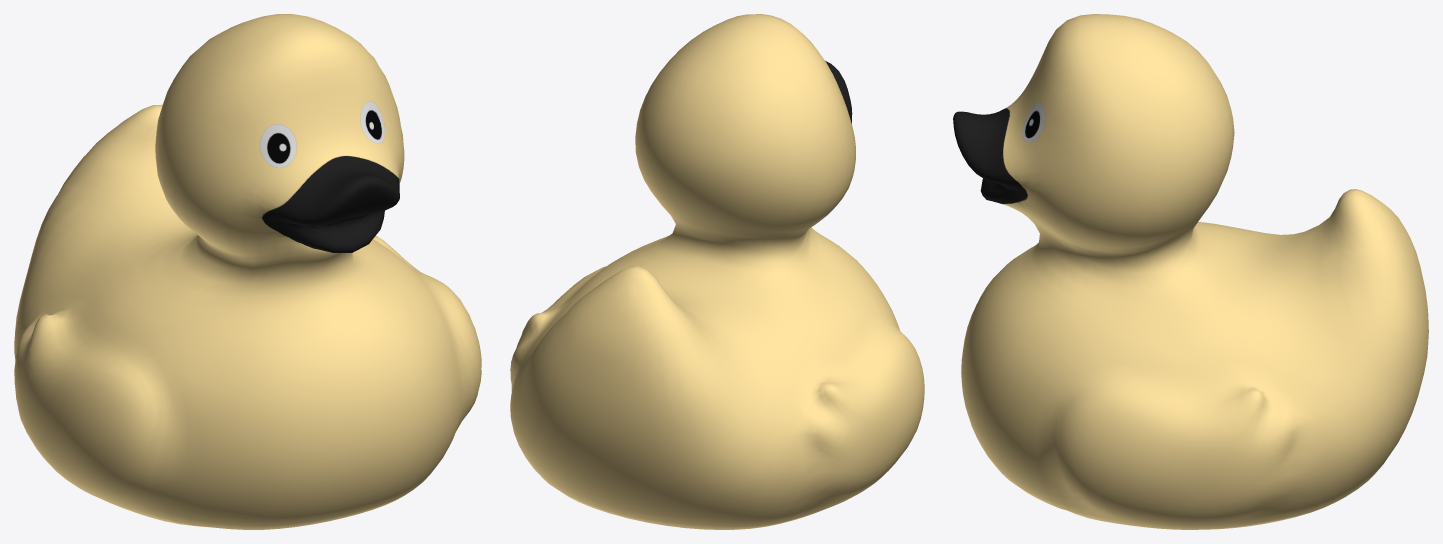
The model's file is motherduck4.glb.
The picture shows the model from 3 angles, left to right: view 1: azimuth 30°, elevation 25°; view 2: azimuth 150°, elevation 25°; view 3: azimuth 270°, elevation 25°; orthographic projection. The views are drawn at different scales.
Parts seen in each view (by area): view 1: Duck_01_LP; view 2: Duck_01_LP; view 3: Duck_01_LP.
Part boxes in pixels (bbox=[...]): Duck_01_LP: bbox=[14, 14, 481, 529]; Duck_01_LP: bbox=[510, 14, 924, 529]; Duck_01_LP: bbox=[953, 14, 1428, 529].
Bounding box in the file's own units: 40.26 × 44.85 × 43.98.
1 material, 1 textured.
